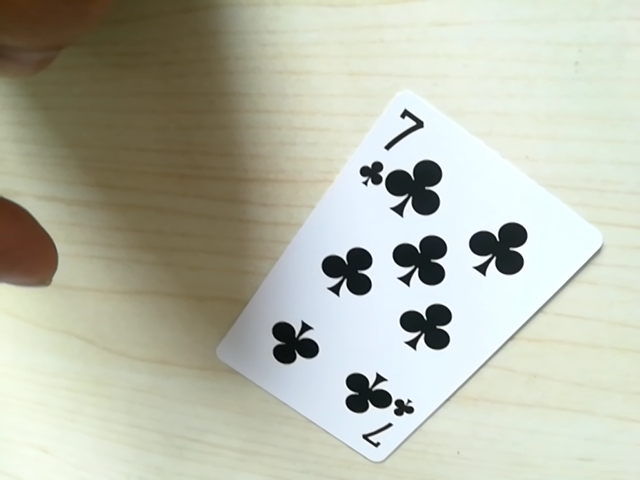mh 7: (356, 92, 431, 195), (343, 401, 418, 459)
